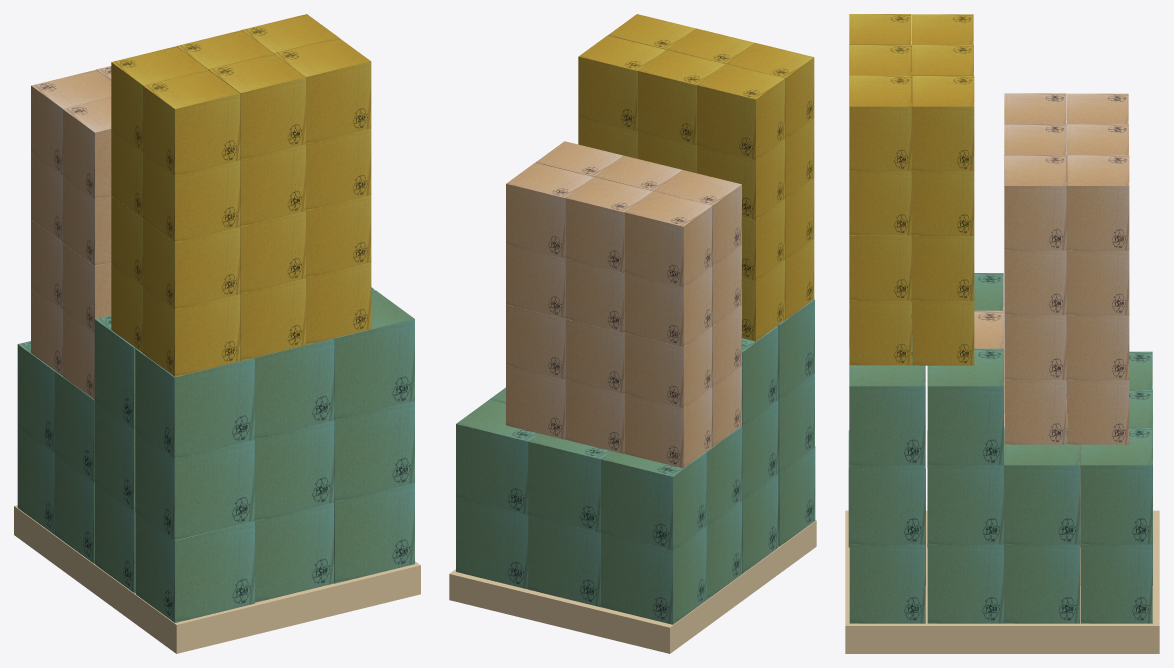
3 views of the same model, side by side, from view 1: azimuth 30°, elevation 25°; view 2: azimuth 150°, elevation 25°; view 3: azimuth 270°, elevation 25° (orthographic). The views are drawn at different scales.
Parts seen in each view (by area): view 1: Куб.7 (×10), Куб.1 (×8), Куб.8 (×6), Куб.2 (×8), Куб.5 (×4), 6.1, Куб.6 (×3), Куб.9 (×2), Куб.4; view 2: Куб.9 (×6), Куб.2 (×8), Куб.7 (×9), Куб.4 (×6), Куб.1 (×8), 6.1, Куб.8 (×4), Куб.6 (×3), Куб.5 (×2); view 3: Куб.7 (×11), Куб.8 (×10), Куб.6 (×5), Куб.9 (×4), 6.1, Куб.2 (×2), Куб.4 (×2), Куб.1 (×2), Куб.5 (×2).
Part boxes in pixels (x1,y1,x2,y2): Куб.7 (×10): (135,14,414,622); Куб.1 (×8): (63,70,240,399); Куб.8 (×6): (55,38,371,563); Куб.2 (×8): (31,46,208,375); Куб.5 (×4): (209,54,305,360); 6.1: (14,505,420,653); Куб.6 (×3): (94,315,135,593); Куб.9 (×2): (17,341,55,534); Куб.4: (176,30,273,69); Куб.9 (×6): (456,399,706,624); Куб.2 (×8): (624,64,784,468); Куб.7 (×9): (506,35,815,546); Куб.4 (×6): (565,49,725,453); Куб.1 (×8): (654,43,814,446); 6.1: (449,520,816,653); Куб.8 (×4): (536,14,742,599); Куб.6 (×3): (742,326,778,573); Куб.5 (×2): (595,28,754,191); Куб.7 (×11): (849,76,1129,623); Куб.8 (×10): (849,75,1079,623); Куб.6 (×5): (927,273,1003,623); Куб.9 (×4): (1080,351,1152,623); 6.1: (845,510,1159,653); Куб.2 (×2): (911,14,1128,188); Куб.4 (×2): (912,45,1128,219); Куб.1 (×2): (849,14,1066,124); Куб.5 (×2): (849,45,1066,219).
Bounding box in the file's own units: 200 × 425 × 230.
5 materials, 4 textured.
